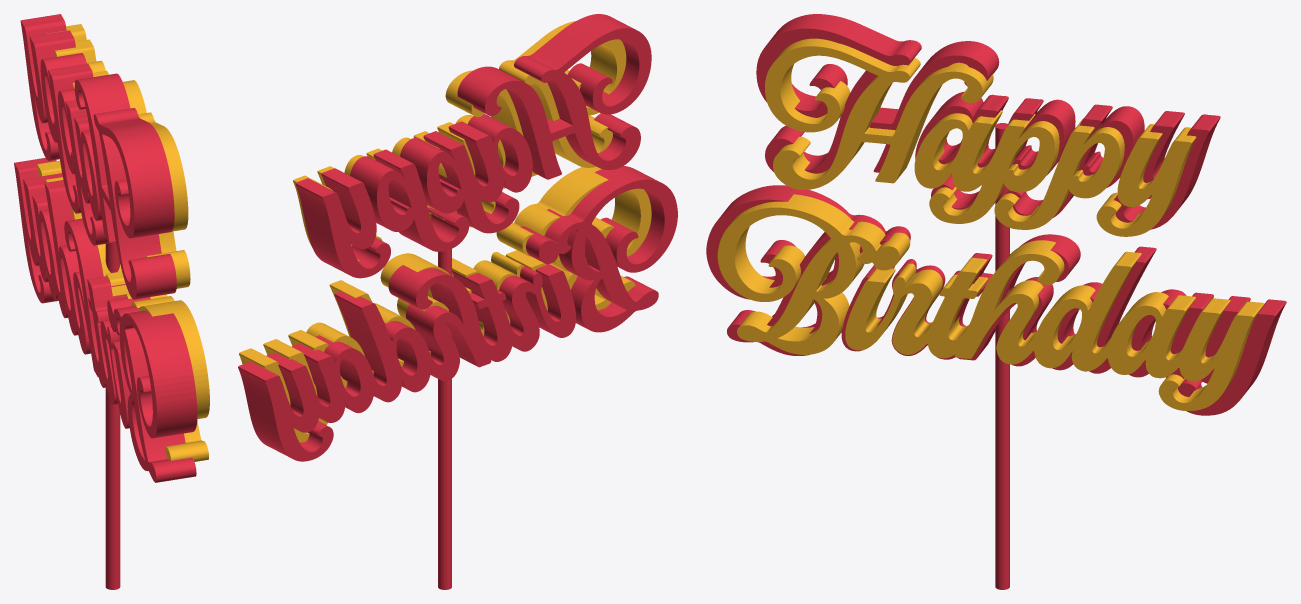
Rendered from red-topper.glb.
3 renders of one model, left to right at view 1: azimuth 30°, elevation 25°; view 2: azimuth 150°, elevation 25°; view 3: azimuth 270°, elevation 25°, orthographic. The views are drawn at different scales.
Visible parts, largest first — view 1: Cylinder; view 2: Cylinder; view 3: Cylinder.
Part boxes in pixels (left/top/right/bottom): Cylinder: left=14, top=14, right=209, bottom=589; Cylinder: left=238, top=14, right=677, bottom=589; Cylinder: left=706, top=14, right=1286, bottom=589.
Size of the model in its own units: 3.07 by 8.4 by 8.28.
